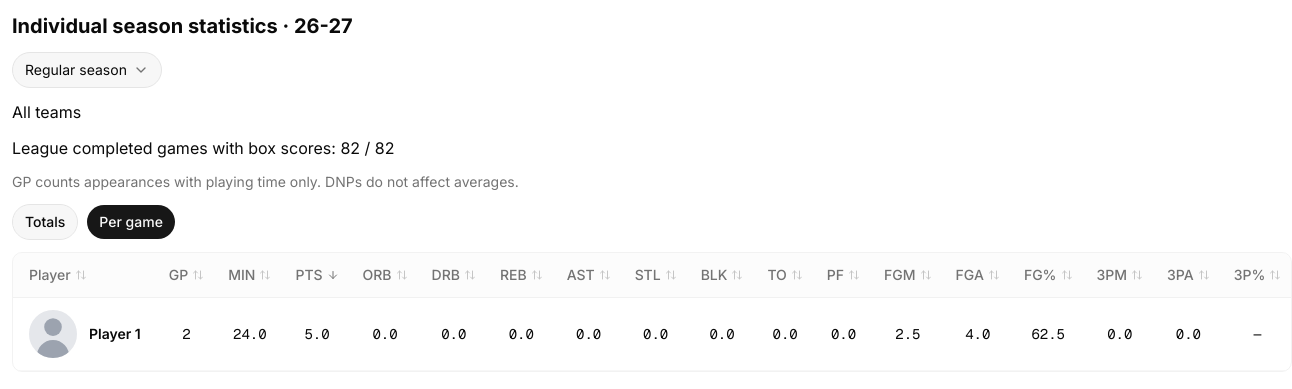
Test: selects separate phases for the roster view: false
The image size is (1292, 389).
Expected: the text "League completed games with box scores: 82 / 82" is shown, [12,138,394,158]
Press Enter in the dropdown named "Competition phase", box [12,52,162,88]
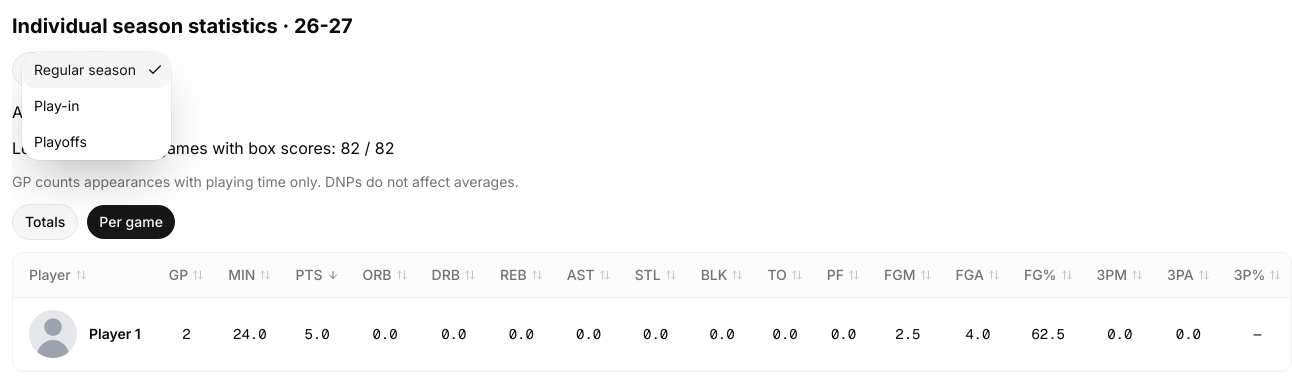
Click the option "Play-in" at (57, 106), box [34,97,79,114]
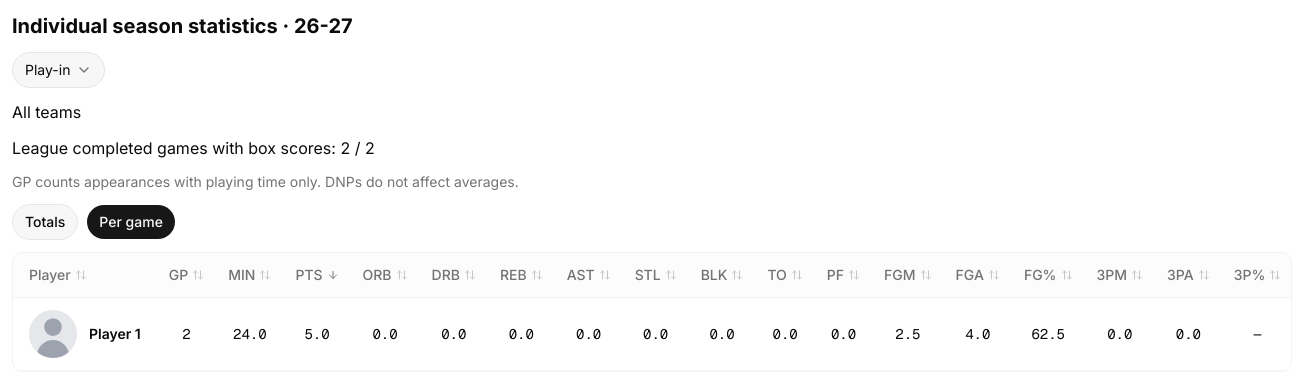
Expected: the text "League completed games with box scores: 2 / 2" is shown, [12,138,375,158]
Press Enter in the dropdown named "Competition phase", box [12,52,105,88]
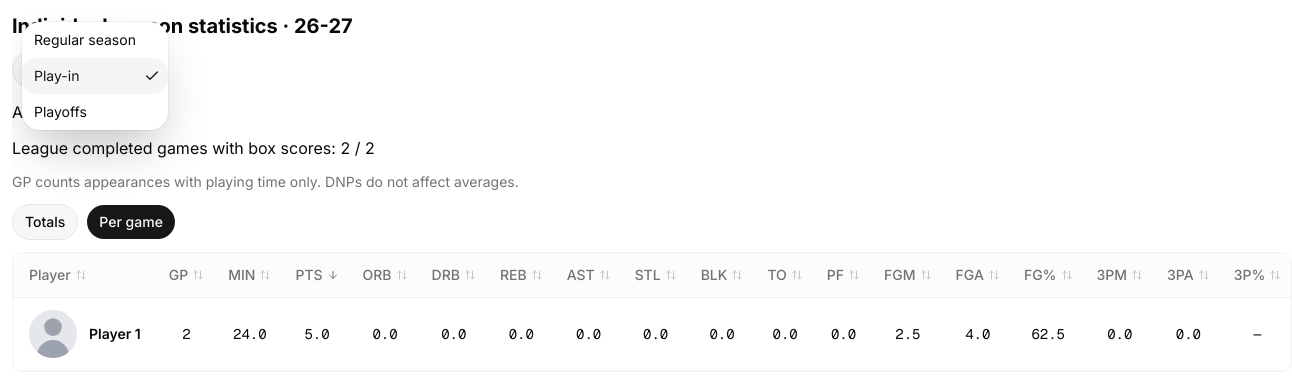
Click the option "Playoffs" at (60, 112), box [34,103,87,120]
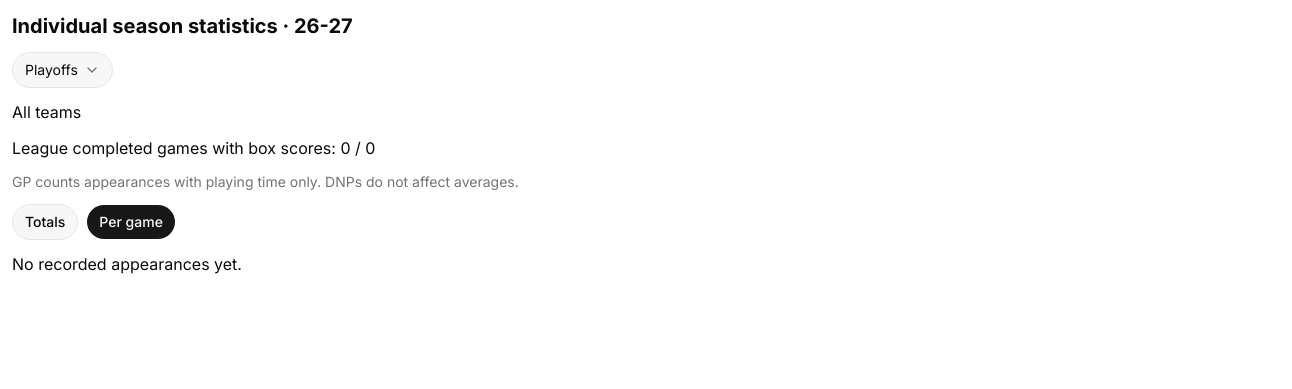
Expected: the text "League completed games with box scores: 0 / 0" is shown, [12,138,375,158]
Expected: the text "No recorded appearances yet." is shown, [12,254,242,274]
Expected: the table is gone
Press Enter in the dropdown named "Competition phase", box [12,52,113,88]
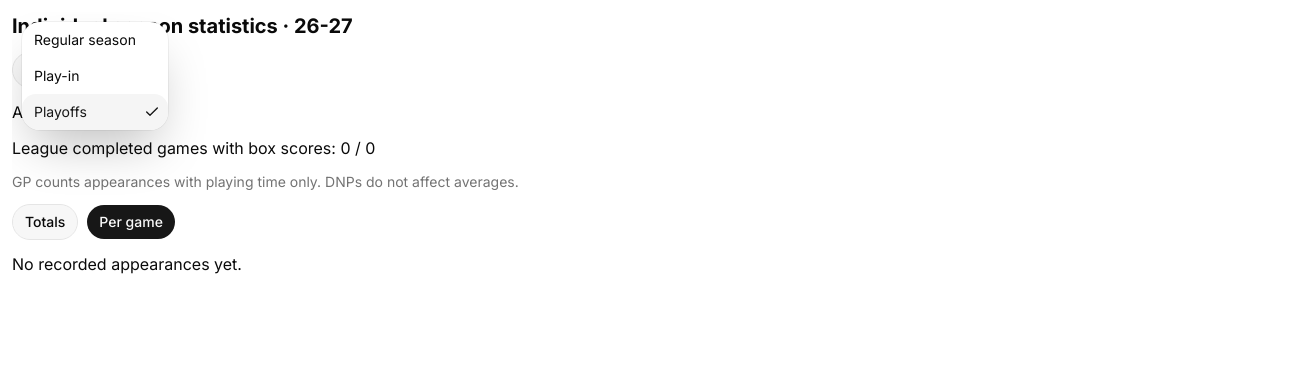
Click the option "Regular season" at (85, 40), box [34,31,136,48]
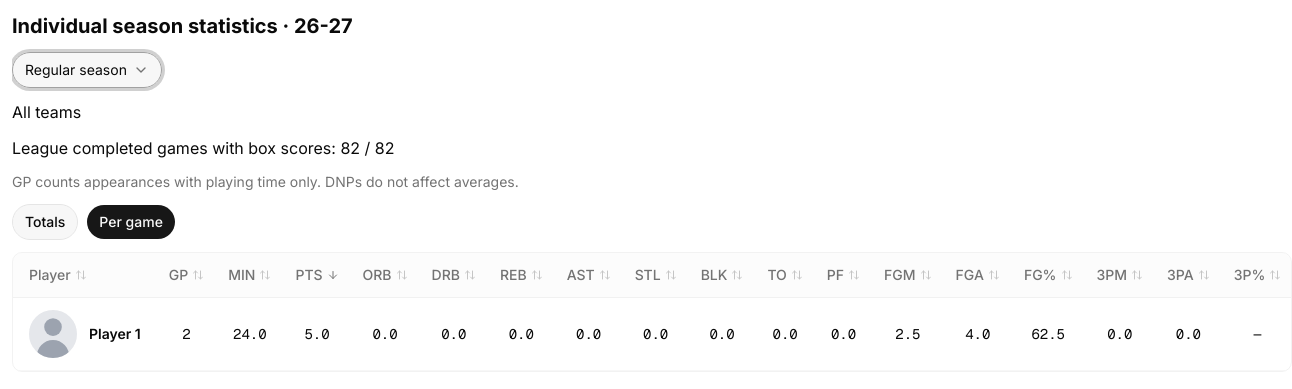
Expected: the text "League completed games with box scores: 82 / 82" is shown, [12,138,394,158]
